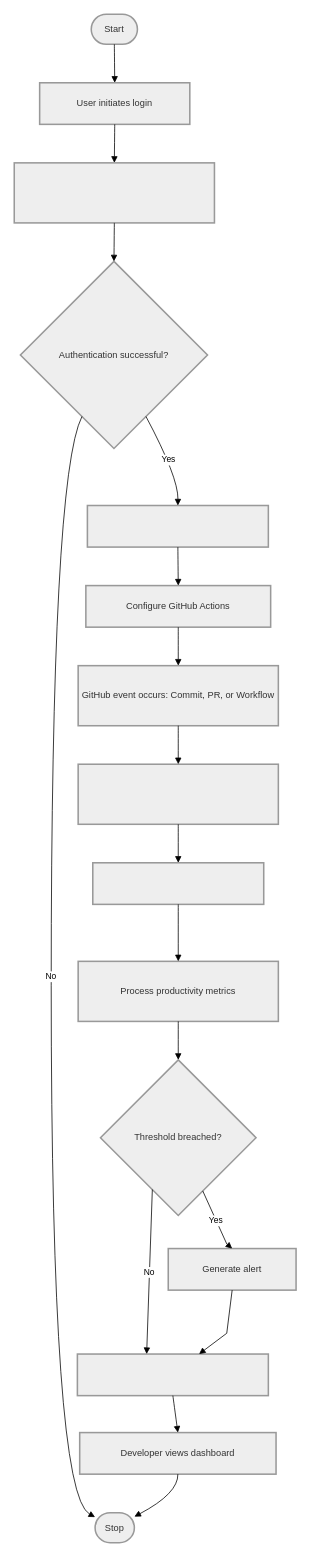
Image size: 310x1556. Some labels were removed from this diagram. The centre of each missing label's shape, as x and y in pixels:
"Authenticate via GitHub OAuth" goes at point (114, 192).
"Collect GitHub and CI/CD data" goes at point (178, 794).
"Connect GitHub Account" goes at point (177, 525).
"Store data in database" goes at point (178, 883).
"Update dashboard metrics" goes at point (172, 1374).
